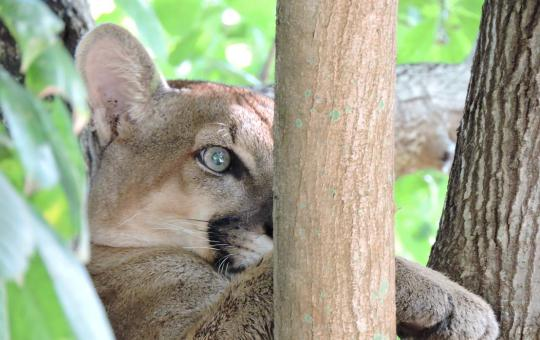OncaParda: (69, 18, 501, 340)
